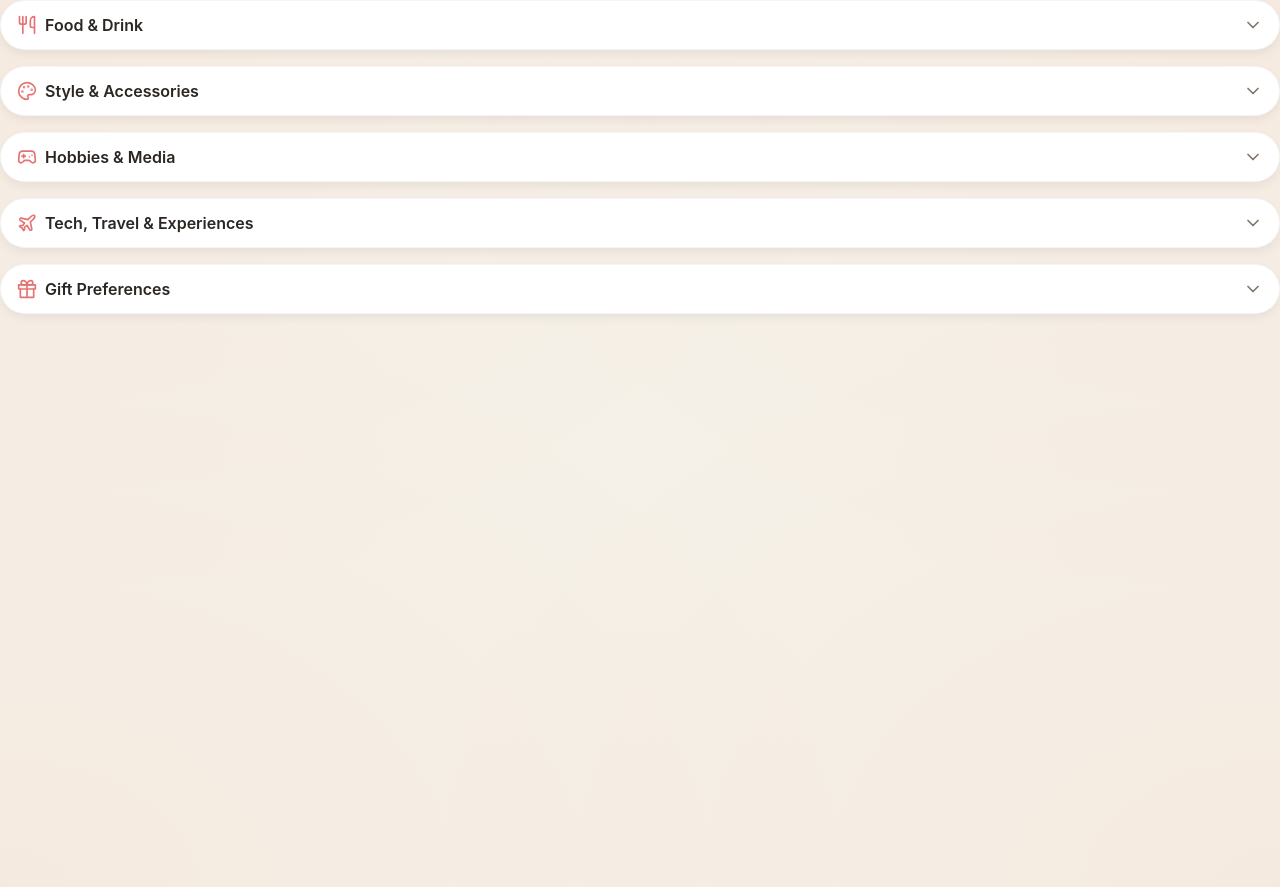
Test case: AdvancedInterestsEdit › expands sections when clicked
Expected: the text "Likes Wine" is not shown
# Click on Food & Drink section to expand
Click the button "Food & Drink" at (94, 25), box [1,1,1279,49]
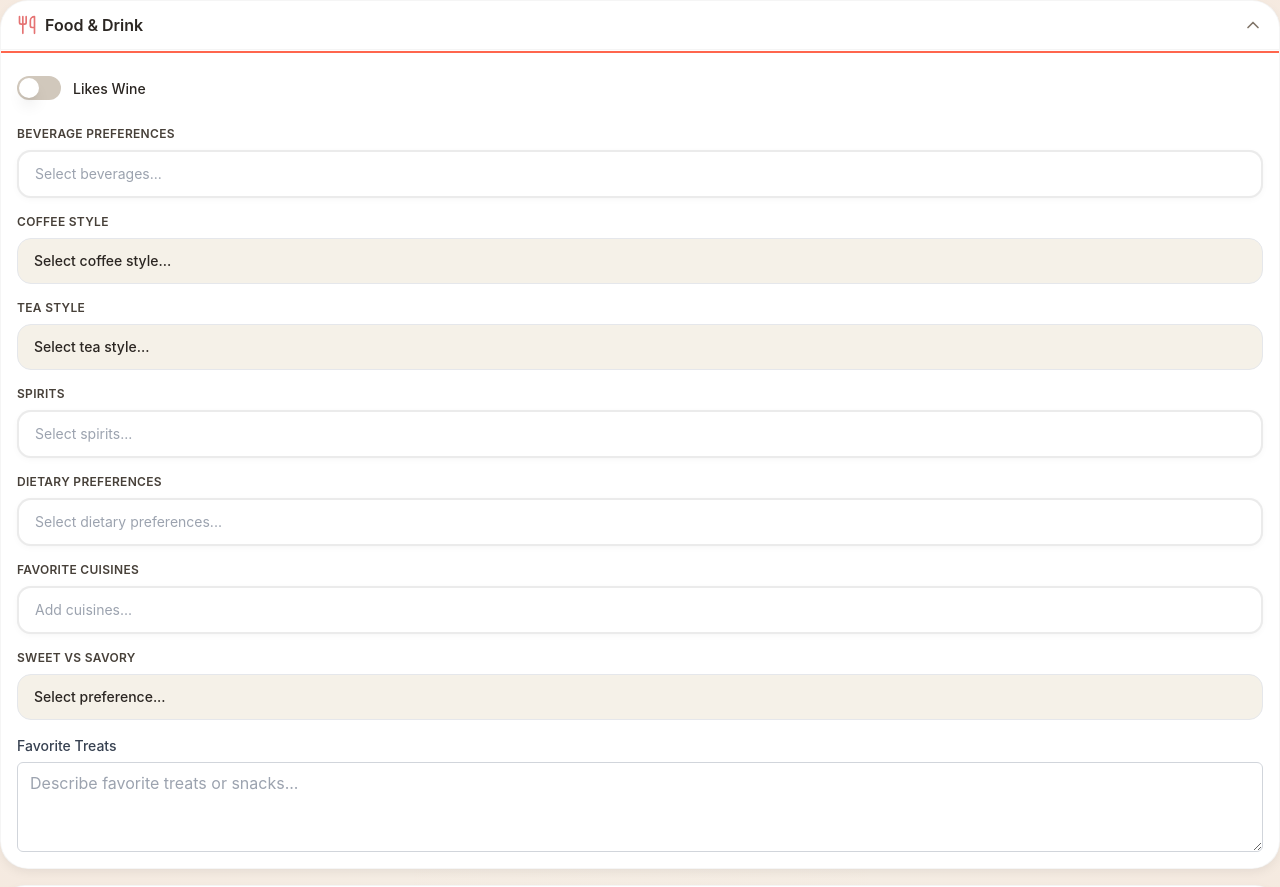
Expected: the text "Likes Wine" is shown, [73,80,146,97]
